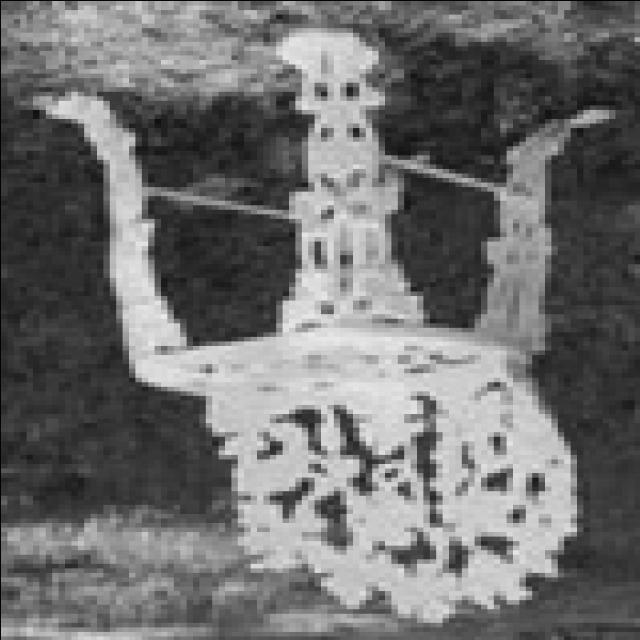chair: (23, 27, 616, 626)
